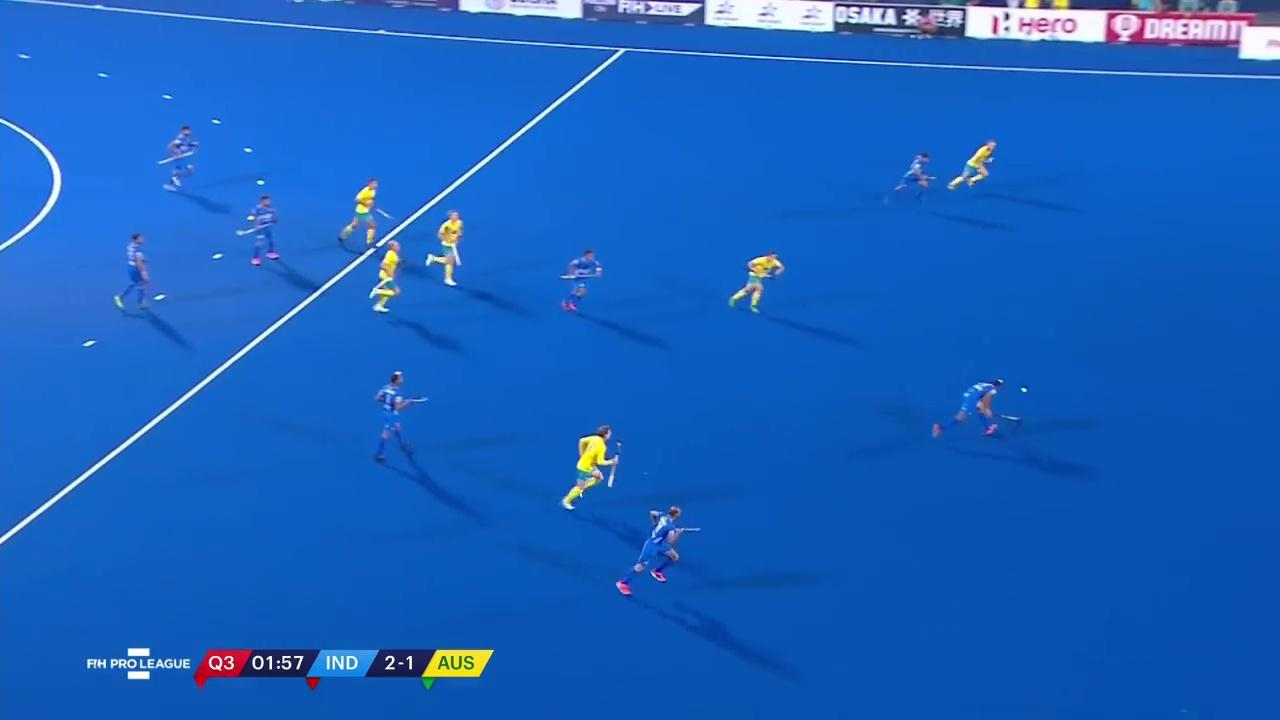ball: (1015, 382, 1032, 396)
